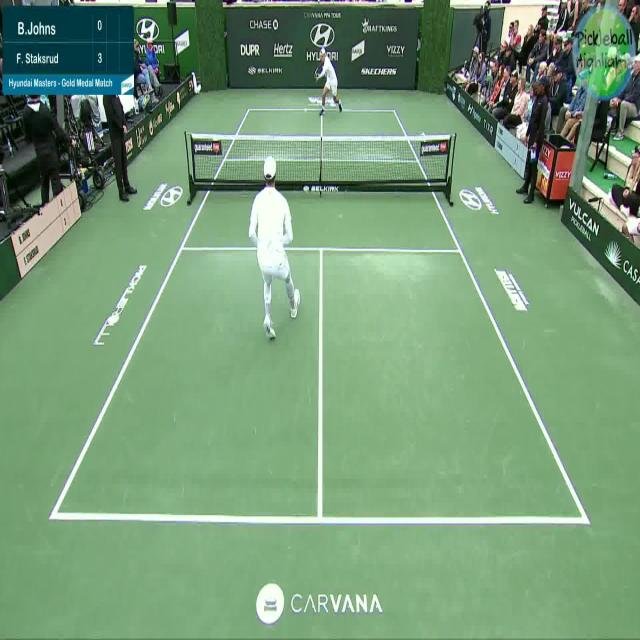ball: (302, 101, 309, 117)
